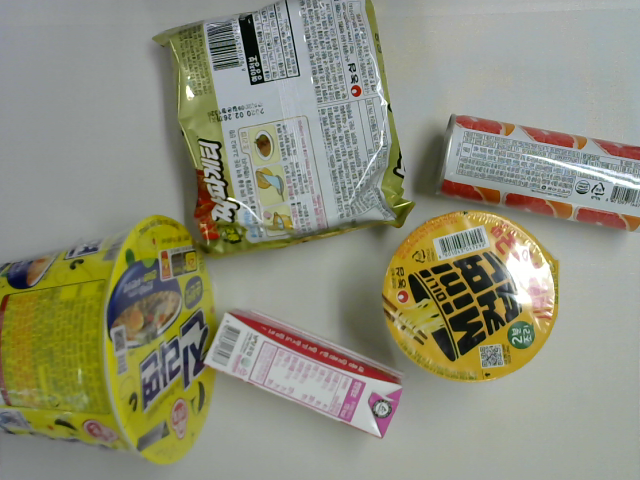Demisoda_Grapefruit_Can_250ml: (429, 110, 640, 239)
Hejangmini: (376, 209, 563, 388)
Jinlamyeon_Mild_Taste_Large_Cup: (1, 212, 226, 475)
Olive_Chapaghetti: (155, 1, 419, 257)
Strawberry_E_Mong: (203, 305, 408, 447)
